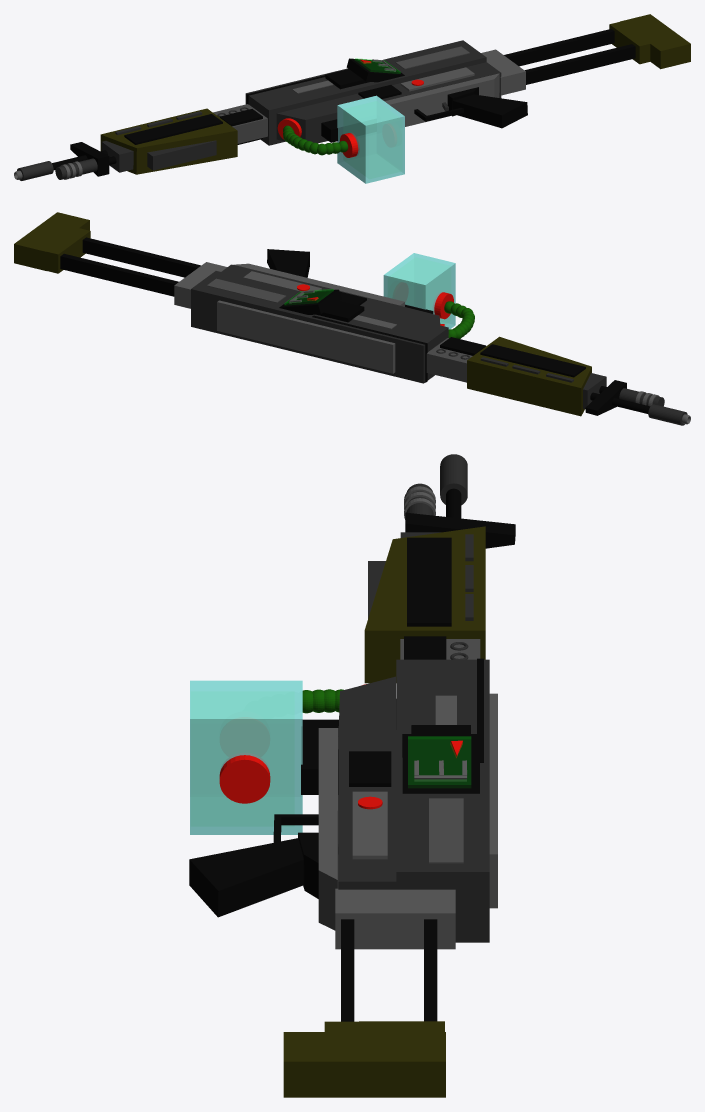
The model's file is lmg01fixed.fbx.
3 views of the same model, one above another, from view 1: azimuth 30°, elevation 25°; view 2: azimuth 150°, elevation 25°; view 3: azimuth 270°, elevation 25° (orthographic). The views are drawn at different scales.
Parts seen in each view (by area): view 1: Cube.038, Cube.028, Cube.012, Cube.003, Cube.011, Cube.001, Cube.005, Cube.010, Cube.002, Cube.017, Cube.035, Cube.015 (+18 smaller); view 2: Cube.028, Cube.027, Cube.012, Cube.038, Cube.011, Cube.010, Cube.005, Cube.035, Cube.013, Cube.007, Cube.001, Cube.003 (+16 smaller); view 3: Cube.038, Cube.028, Cube.011, Cube.012, Cube.015, Cube.001, Cube.009, Cube.019, Cube.035, Cube.003, Cube.002, Cube.021 (+13 smaller).
Part boxes in pixels (x1,y1,x2,y2): Cube.038: (337, 95, 404, 183); Cube.028: (245, 40, 486, 145); Cube.012: (100, 108, 237, 174); Cube.003: (385, 73, 499, 126); Cube.011: (620, 14, 690, 69); Cube.001: (453, 94, 527, 128); Cube.005: (525, 44, 635, 84); Cube.010: (504, 29, 614, 66); Cube.002: (276, 97, 346, 143); Cube.017: (147, 140, 216, 170); Cube.035: (124, 114, 222, 144); Cube.015: (481, 49, 525, 95); Cube.028: (191, 271, 448, 383); Cube.027: (217, 300, 395, 373); Cube.012: (467, 336, 591, 416); Cube.038: (383, 253, 455, 329); Cube.011: (14, 212, 89, 270); Cube.010: (60, 253, 178, 296); Cube.005: (82, 237, 200, 277); Cube.035: (480, 344, 585, 377); Cube.013: (426, 338, 472, 382); Cube.007: (46, 228, 90, 273); Cube.001: (267, 249, 309, 277); Cube.003: (233, 263, 404, 306); Cube.038: (190, 680, 302, 834); Cube.028: (396, 659, 489, 942); Cube.011: (283, 1032, 445, 1097); Cube.012: (364, 526, 485, 683); Cube.015: (335, 888, 455, 949); Cube.001: (189, 838, 303, 917); Cube.009: (338, 739, 396, 889); Cube.019: (402, 734, 479, 793); Cube.035: (407, 537, 451, 626); Cube.003: (318, 728, 338, 930); Cube.002: (338, 676, 396, 739); Cube.021: (408, 736, 470, 787).
Bounding box in the file's own units: 3513 × 316 × 785.
